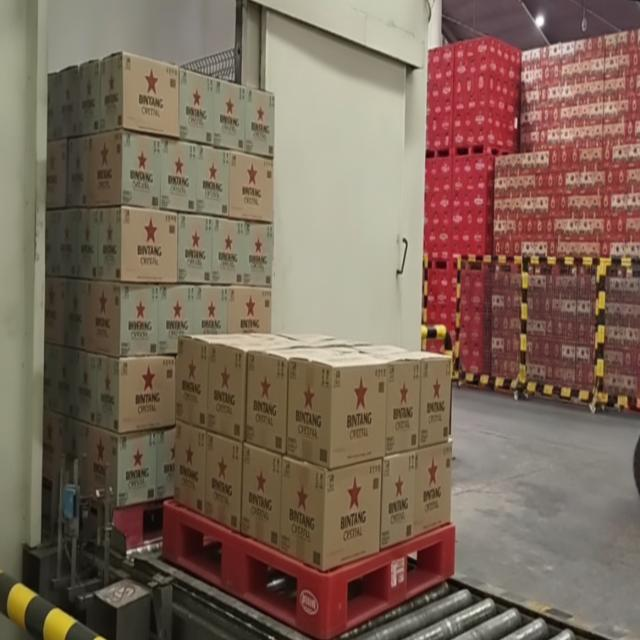pallet: (42, 33, 277, 559), (157, 310, 474, 640)
